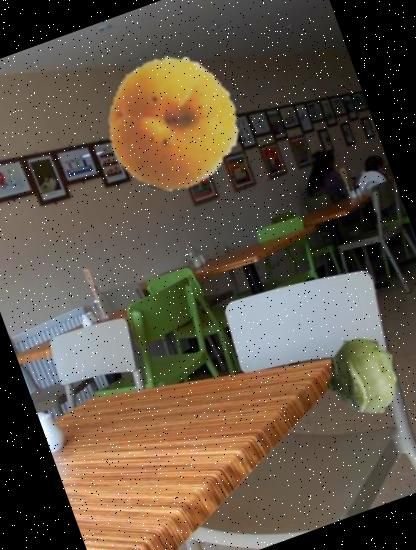Kohlrabi: (308, 323, 416, 430)
Peach: (88, 36, 261, 210)
